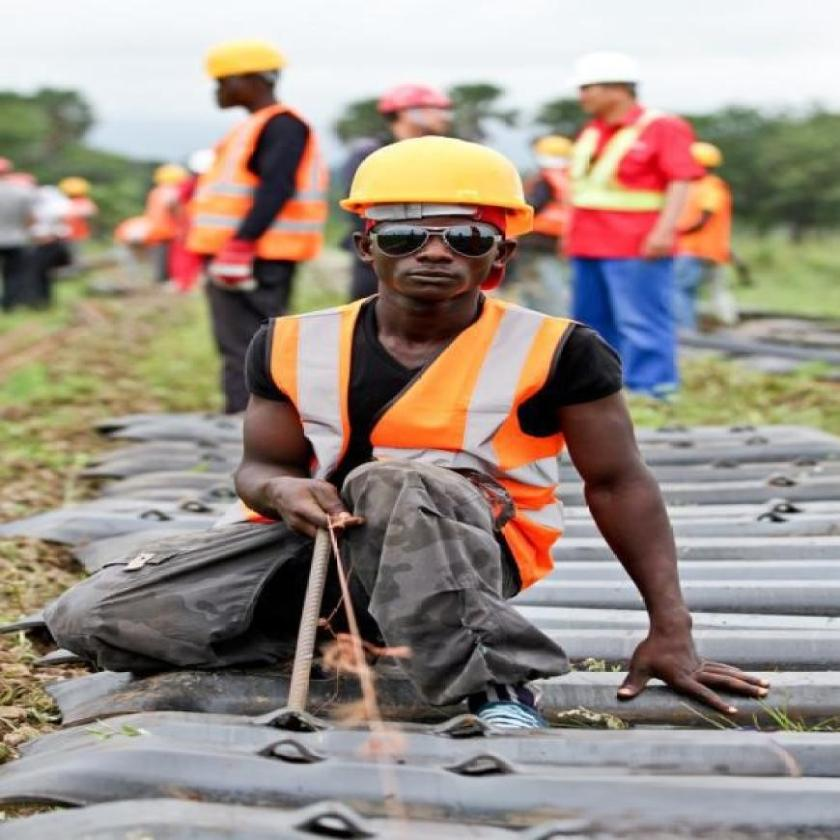Con_casco: (347, 128, 538, 334)
